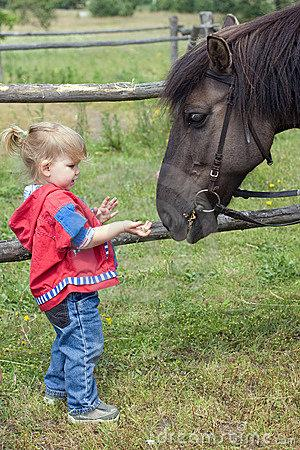person: (4, 122, 154, 430)
